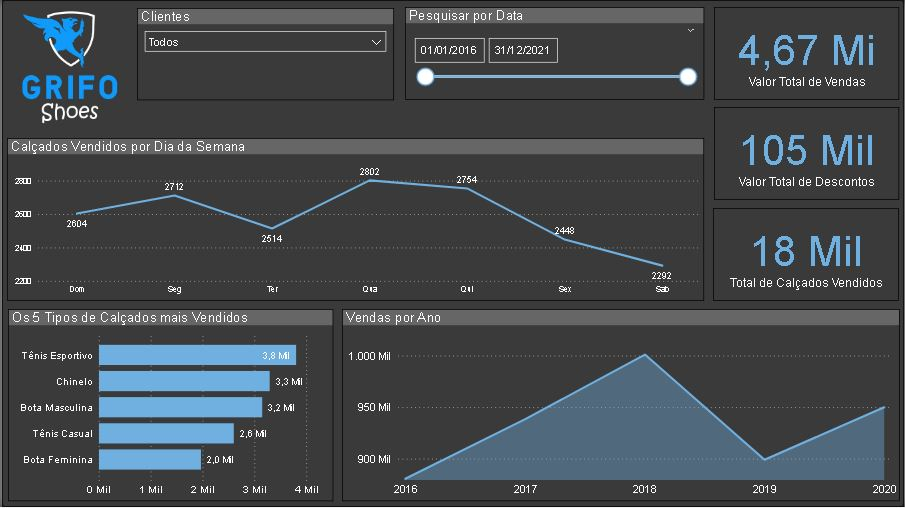

Layout of this report page (visuals, bound fields, positions):
{"tool":"powerbi","page":{"name":"Página 1","canvas":[1280,720],"ordinal":0},"visuals":[{"type":"clusteredBarChart","title":"Os 5 Tipos de Calçados mais Vendidos","fields":{"Category":["public dim_calcados.tipo"],"Y":["Sum(public ft_compra.md_qtd)"]},"box":[8.5,438.8,461.5,272.7],"z":0},{"type":"lineChart","title":"Calçados Vendidos por Dia da Semana","fields":{"Category":["public dim_data.nm_dia_semana_abreviado"],"Y":["Sum(public ft_compra.md_qtd)"]},"box":[7.1,196,989.8,231.5],"z":1000},{"type":"card","fields":{"Values":["Sum(public ft_compra.md_valor_total)"]},"box":[1011.1,9.9,262.7,132.1],"z":2000},{"type":"card","fields":{"Values":["Sum(public ft_compra.md_qtd)"]},"box":[1009.7,295.4,264.1,132.1],"z":3000},{"type":"slicer","title":"Pesquisar por Data","fields":{"Values":["public dim_data.nk_data"]},"box":[572.3,9.9,424.6,132.1],"z":4000},{"type":"image","box":[0,1.4,191.7,183.2],"z":5000},{"type":"card","fields":{"Values":["Sum(public ft_compra.md_desconto)"]},"box":[1011.1,152,262.7,132.1],"z":6000},{"type":"slicer","title":"Clientes","fields":{"Values":["public dim_cliente.nm_cliente"]},"box":[191.7,11.4,365,130.7],"z":7000},{"type":"stackedAreaChart","title":"Vendas por Ano","fields":{"Category":["public dim_data.nk_data.Variation.Hierarquia de datas.Ano"],"Y":["Sum(public ft_compra.md_valor_total)"]},"box":[482.8,438.8,792.4,272.7],"z":7001}]}

Visuals, with their boxes in screenshot pixels (x1, y1, x2, y2), scaled from the page's 1280x720 canvas onto the 905x508 screenshot:
"Os 5 Tipos de Calçados mais Vendidos" clusteredBarChart: (6, 310, 332, 502)
"Calçados Vendidos por Dia da Semana" lineChart: (5, 138, 705, 302)
card - Sum(public ft_compra.md_valor_total): (715, 7, 901, 100)
card - Sum(public ft_compra.md_qtd): (714, 208, 901, 302)
"Pesquisar por Data" slicer: (405, 7, 705, 100)
image: (0, 1, 136, 130)
card - Sum(public ft_compra.md_desconto): (715, 107, 901, 200)
"Clientes" slicer: (136, 8, 394, 100)
"Vendas por Ano" stackedAreaChart: (341, 310, 902, 502)
